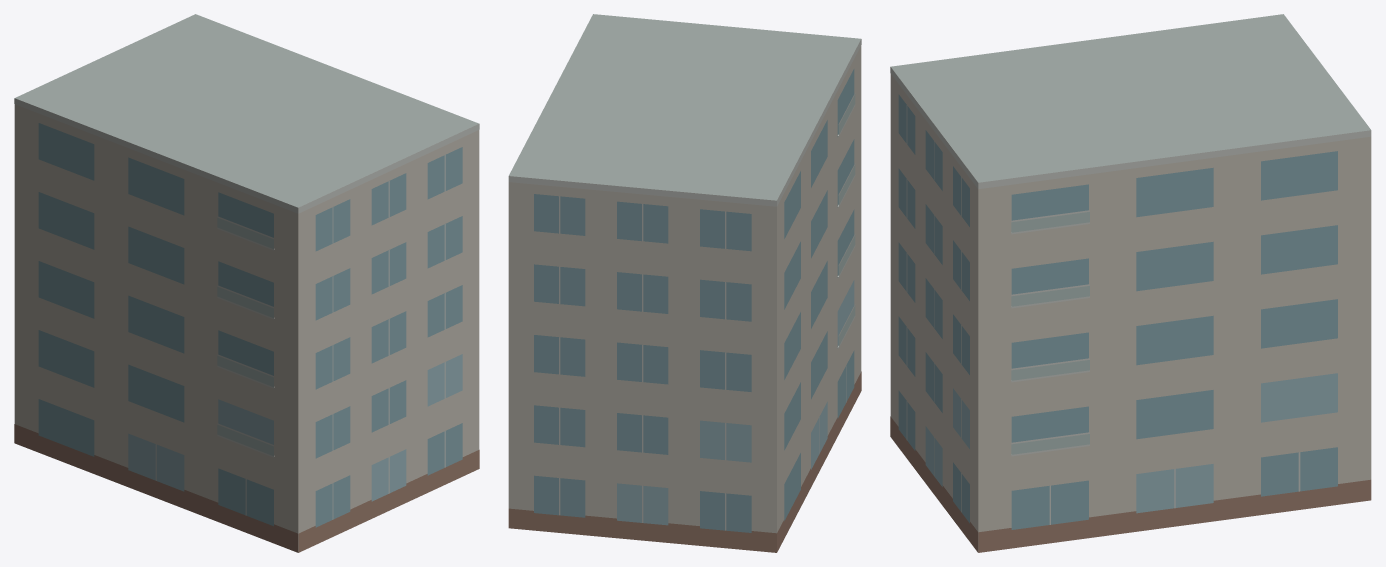
Rendered from survey-upis-32625830.glb.
3 views of the same model, side by side, from view 1: azimuth 30°, elevation 25°; view 2: azimuth 150°, elevation 25°; view 3: azimuth 270°, elevation 25° (orthographic). The views are drawn at different scales.
Parts seen in each view (by area): view 1: survey-upis-32625830.tmp; view 2: survey-upis-32625830.tmp; view 3: survey-upis-32625830.tmp.
Part boxes in pixels (x1,y1,x2,y2): survey-upis-32625830.tmp: (14,14,479,552); survey-upis-32625830.tmp: (508,14,861,552); survey-upis-32625830.tmp: (890,14,1371,552).
Bounding box in the file's own units: 13.7 × 14 × 16.5.
